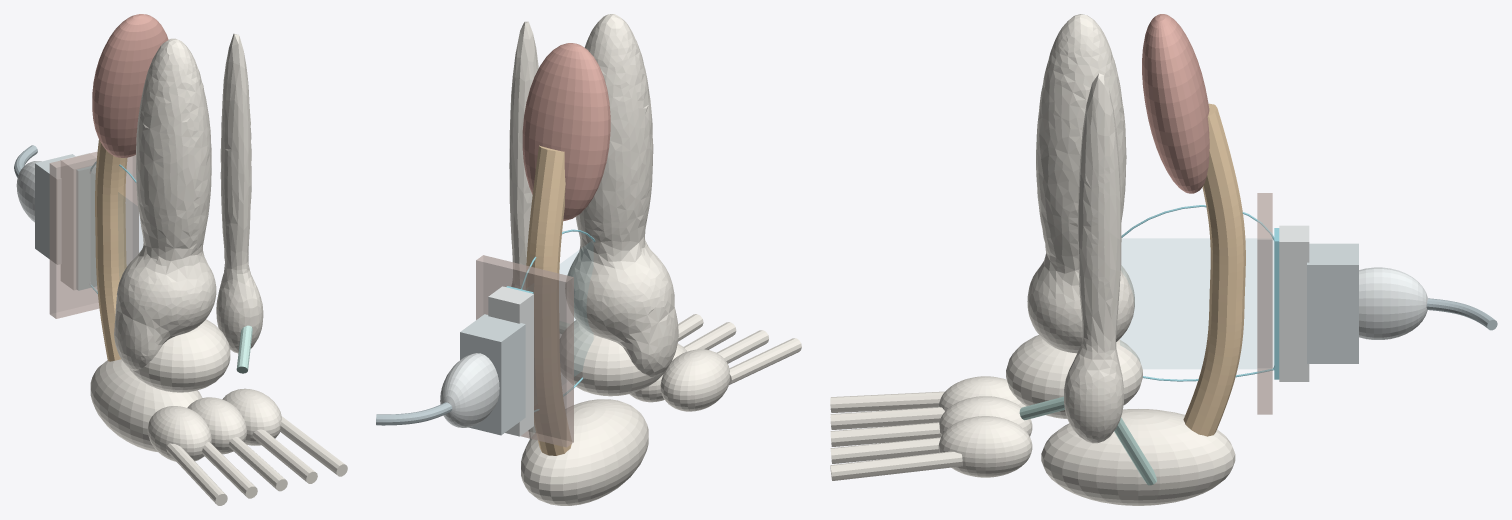
File: ankle-long.glb
3 renders of one model, left to right at view 1: azimuth 30°, elevation 25°; view 2: azimuth 150°, elevation 25°; view 3: azimuth 270°, elevation 25°, orthographic. The views are drawn at different scales.
Parts seen in each view (by area): view 1: Tibia, Fibula, Local skin contact patch - surrounding skin omitted, Soleus - partial, Achilles tendon, Calcaneus, Talus, Transducer body, Midfoot bone 1, Transducer acoustic face, Transducer head, Midfoot bone 2 (+9 smaller); view 2: Tibia, Soleus - partial, Calcaneus, Achilles tendon, Local skin contact patch - surrounding skin omitted, Transducer body, Fibula, Talus, Midfoot bone 1, Transducer grip, Transducer head, Illustrative imaging plane - not a simulated sonogram (+5 smaller); view 3: Tibia, Fibula, Calcaneus, Illustrative imaging plane - not a simulated sonogram, Achilles tendon, Soleus - partial, Transducer body, Talus, Transducer head, Midfoot bone 3, Transducer grip, Local skin contact patch - surrounding skin omitted (+10 smaller).
Part boxes in pixels (x1,y1,x2,y2): Tibia: (114,38,216,370); Fibula: (216,33,263,353); Local skin contact patch - surrounding skin omitted: (49,151,138,318); Soleus - partial: (92,14,168,157); Achilles tendon: (95,139,127,361); Calcaneus: (90,359,202,451); Talus: (129,319,230,392); Transducer body: (35,154,75,264); Midfoot bone 1: (147,406,211,461); Transducer acoustic face: (76,165,96,290); Transducer head: (60,153,96,289); Midfoot bone 2: (187,397,246,454); Tibia: (565,14,678,377); Soleus - partial: (522,43,610,220); Calcaneus: (521,399,648,505); Achilles tendon: (526,145,571,455); Local skin contact patch - surrounding skin omitted: (476,255,573,447); Transducer body: (460,314,525,435); Fibula: (509,21,538,289); Talus: (560,320,668,396); Midfoot bone 1: (660,349,729,411); Transducer grip: (440,353,499,427); Transducer head: (488,286,533,436); Illustrative imaging plane - not a simulated sonogram: (560,240,592,376); Tibia: (1027,14,1134,353); Fibula: (1064,73,1123,443); Calcaneus: (1041,409,1235,505); Illustrative imaging plane - not a simulated sonogram: (1120,239,1273,368); Achilles tendon: (1183,103,1245,436); Soleus - partial: (1142,14,1209,193); Transducer body: (1307,243,1358,363); Talus: (1006,335,1142,418); Transducer head: (1279,225,1309,381); Midfoot bone 3: (938,416,1032,477); Transducer grip: (1359,267,1427,339); Local skin contact patch - surrounding skin omitted: (1257,193,1272,414).
Bounding box in the file's own units: 1.25 × 3.19 × 3.98.
